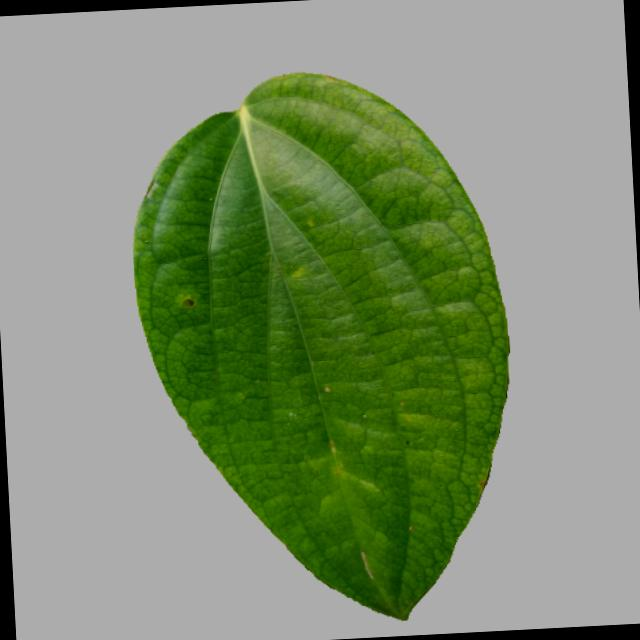healthy: (115, 54, 528, 640)
